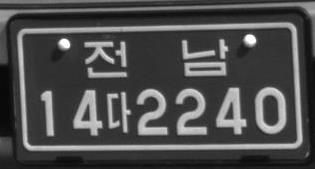0: (253, 85, 287, 136)
1: (35, 88, 62, 137)
2: (174, 86, 208, 137), (135, 87, 169, 137)
4: (215, 85, 247, 135), (71, 88, 103, 137)
다: (105, 90, 132, 135)
전남_D: (83, 38, 229, 80)
